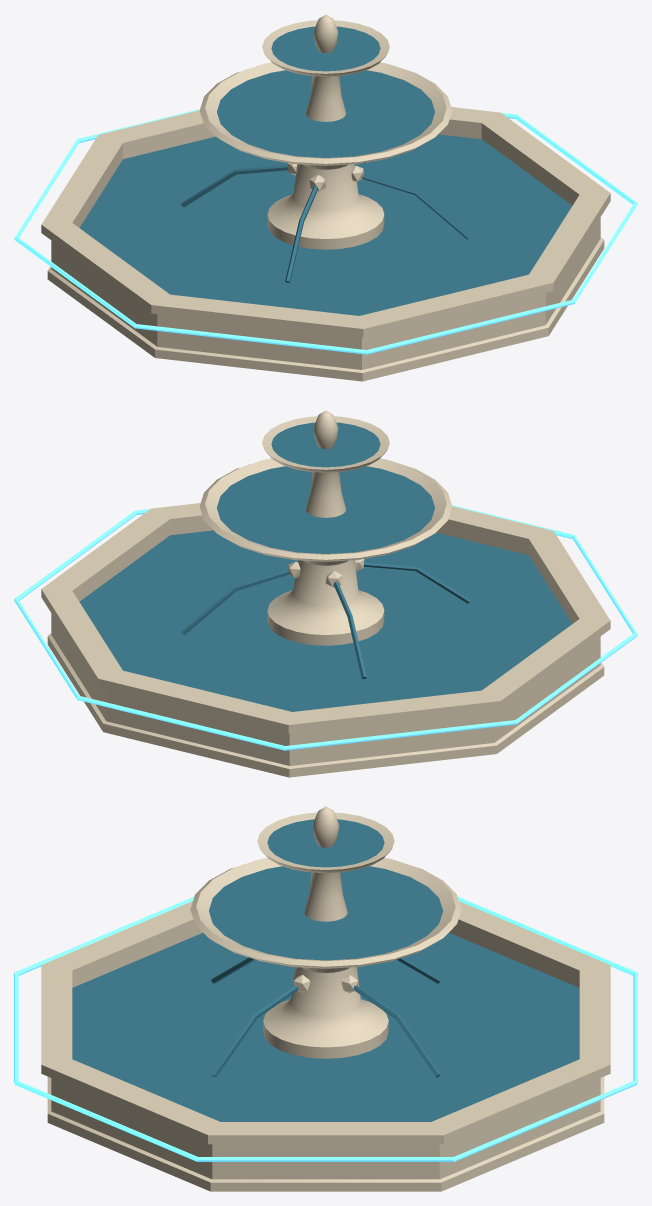
The picture shows the model from 3 angles, top to bottom: view 1: azimuth 30°, elevation 25°; view 2: azimuth 150°, elevation 25°; view 3: azimuth 270°, elevation 25°; orthographic projection. The views are drawn at different scales.
Visible parts, largest first — view 1: fountain.lod0; view 2: fountain.lod0; view 3: fountain.lod0.
Boxes of the visible parts, <box> form: fountain.lod0: <box>14,14,637,381</box>; fountain.lod0: <box>14,410,637,777</box>; fountain.lod0: <box>14,806,637,1191</box>.
Bounding box in the file's own units: 7.46 × 3.53 × 7.45.
